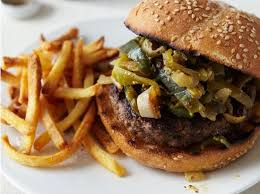hamburger: (97, 1, 259, 175)
